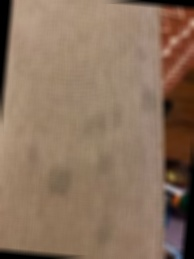oil: (79, 117, 121, 175), (39, 160, 73, 196), (135, 90, 160, 113)
